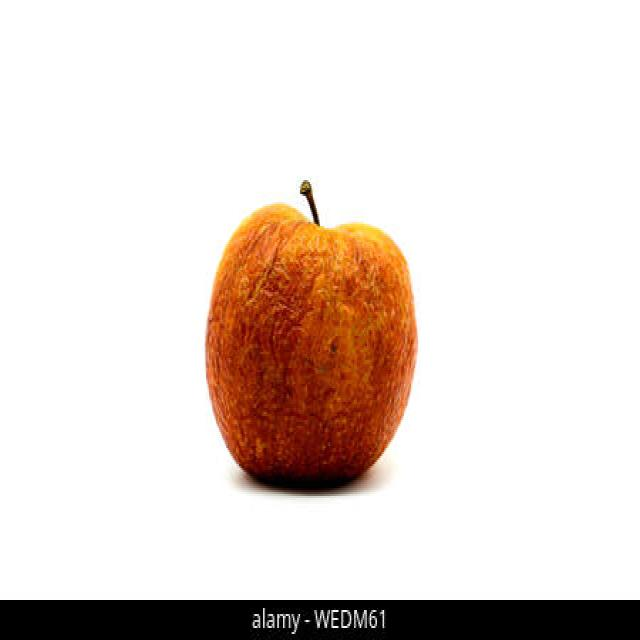overripe: (203, 203, 418, 492)
